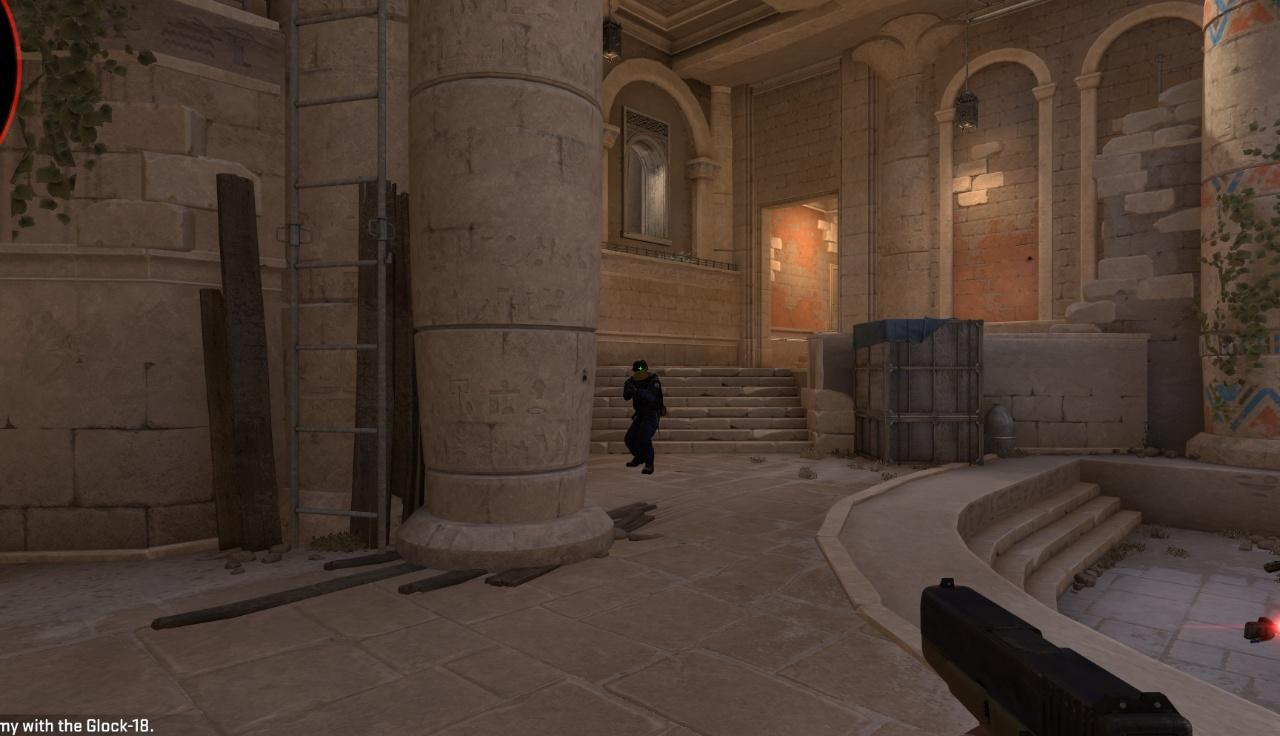ct: (624, 360, 659, 471)
cthead: (631, 361, 649, 380)
pistol: (920, 576, 1194, 736)
